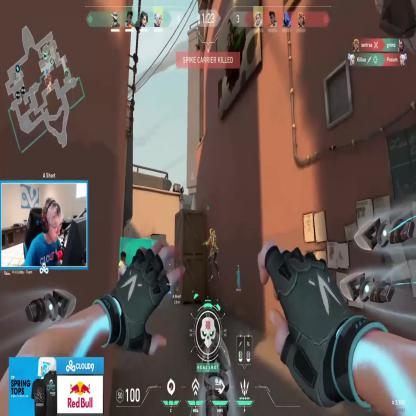enemy: (203, 226, 219, 283)
enemy_head: (210, 228, 214, 236)
